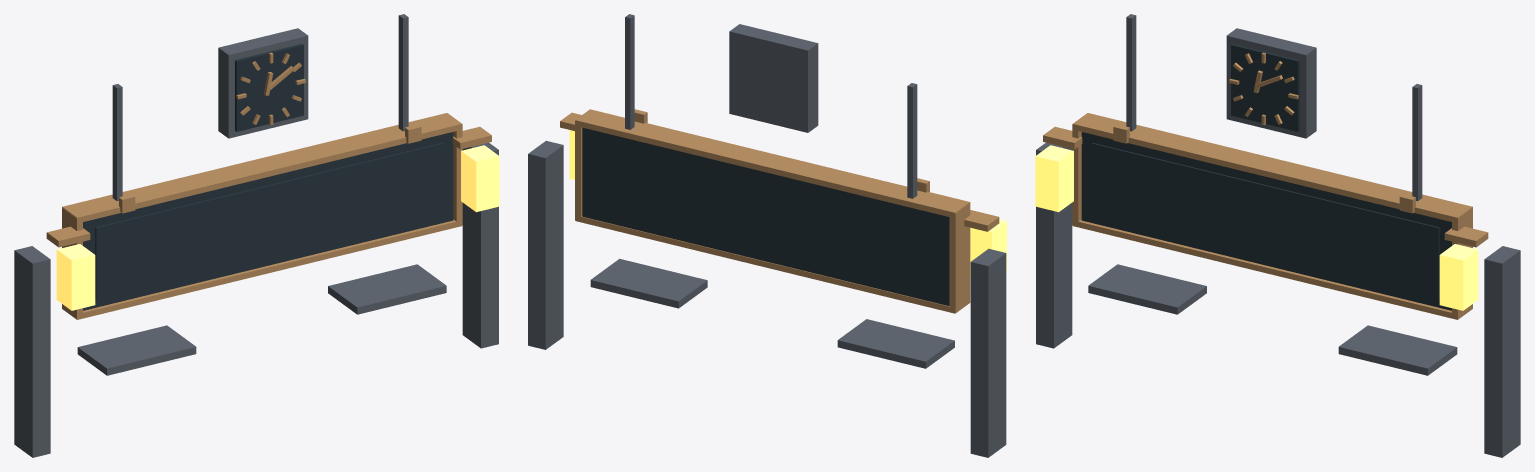
File: veil_victorian_sign.gltf
3 views of the same model, side by side, from view 1: azimuth 30°, elevation 25°; view 2: azimuth 150°, elevation 25°; view 3: azimuth 330°, elevation 25° (orthographic).
Visible parts, largest first — view 1: Inset title field, Brass top fillet, Left wrought support, Grand central enamel station plaque, Right wrought support, Clock ivory dial, Clock iron mount, Iron left platform ledge, Iron right platform ledge, Brass bottom fillet, Left gas lamp, Right gas lamp (+6 smaller); view 2: Grand central enamel station plaque, Clock iron mount, Brass top fillet, Left wrought support, Right wrought support, Iron left platform ledge, Iron right platform ledge, Brass bottom fillet, Brass left fillet, Left chain, Right chain, Left gas lamp (+2 smaller); view 3: Inset title field, Brass top fillet, Right wrought support, Grand central enamel station plaque, Left wrought support, Clock ivory dial, Clock iron mount, Iron right platform ledge, Iron left platform ledge, Brass bottom fillet, Right gas lamp, Left gas lamp (+6 smaller).
Part boxes in pixels (x1,y1,x2,y2): Inset title field: (95,143,442,299); Brass top fillet: (62,113,462,223); Left wrought support: (14,246,50,457); Grand central enamel station plaque: (83,132,453,310); Right wrought support: (462,142,498,348); Clock ivory dial: (235,44,303,131); Clock iron mount: (218,28,308,138); Iron left platform ledge: (77,325,196,375); Iron right platform ledge: (328,264,446,314); Brass bottom fillet: (62,219,462,319); Left gas lamp: (56,244,95,310); Right gas lamp: (461,145,499,212); Grand central enamel station plaque: (582,127,949,305); Clock iron mount: (729,24,818,132); Brass top fillet: (575,109,970,218); Left wrought support: (970,248,1006,457); Right wrought support: (528,140,563,349); Iron left platform ledge: (837,319,954,368); Iron right platform ledge: (590,258,707,308); Brass bottom fillet: (575,215,970,313); Brass left fillet: (949,203,970,312); Left chain: (907,83,917,198); Right chain: (625,14,634,129); Left gas lamp: (970,219,1006,276); Inset title field: (1092,143,1439,299); Brass top fillet: (1072,113,1472,223); Right wrought support: (1484,246,1520,457); Grand central enamel station plaque: (1081,132,1451,310); Left wrought support: (1036,142,1072,348); Clock ivory dial: (1231,44,1299,131); Clock iron mount: (1226,28,1316,138); Iron right platform ledge: (1338,325,1457,375); Iron left platform ledge: (1088,264,1206,314); Brass bottom fillet: (1072,219,1472,319); Right gas lamp: (1439,244,1478,310); Left gas lamp: (1035,145,1073,212).
Size of the model in its own units: 3.39 by 2.49 by 0.48.
